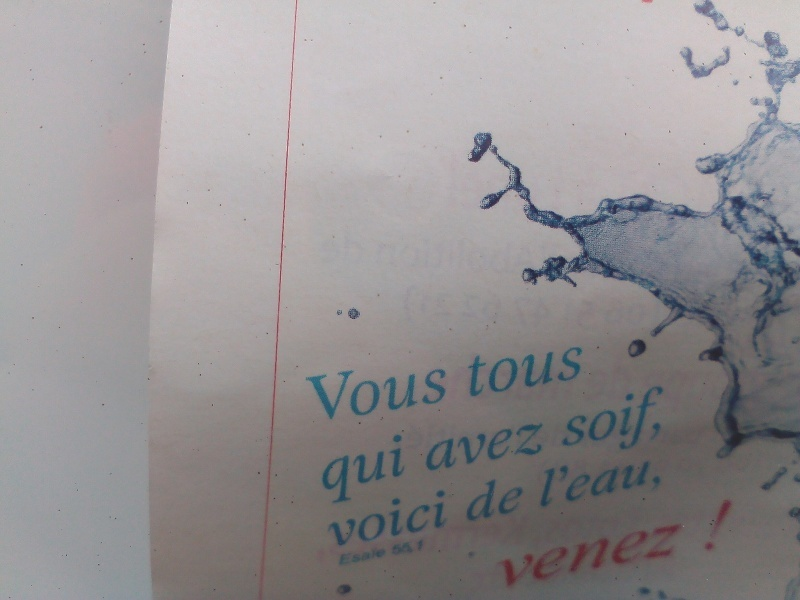text: (577, 384, 592, 465), (593, 384, 608, 465), (609, 384, 624, 465), (625, 384, 640, 465), (641, 384, 656, 465), (337, 431, 352, 510), (353, 431, 368, 510), (369, 431, 384, 510), (385, 431, 400, 510), (657, 384, 671, 465), (322, 431, 336, 510), (337, 480, 352, 551), (353, 480, 368, 551), (369, 480, 384, 551), (385, 480, 400, 551), (401, 480, 416, 551), (417, 480, 432, 551), (433, 480, 448, 551), (497, 520, 512, 590), (513, 520, 528, 590), (529, 520, 544, 590), (545, 520, 560, 590), (561, 520, 576, 590), (577, 520, 592, 590), (593, 520, 608, 590), (609, 520, 624, 590), (625, 520, 640, 590), (641, 520, 656, 590), (657, 520, 672, 590), (673, 520, 688, 590), (322, 480, 336, 551), (305, 360, 320, 422), (321, 360, 336, 422), (337, 360, 352, 422), (353, 360, 368, 422), (369, 360, 384, 422), (385, 360, 400, 422), (401, 360, 416, 422), (417, 360, 432, 422), (433, 360, 448, 422), (321, 508, 336, 567), (337, 508, 352, 567), (353, 508, 368, 567), (369, 508, 384, 567), (385, 508, 400, 567), (401, 508, 416, 567), (417, 508, 432, 567), (433, 508, 448, 567), (449, 508, 464, 567), (465, 508, 480, 567), (481, 508, 496, 567), (497, 508, 512, 567), (513, 508, 528, 567), (529, 508, 544, 567), (545, 508, 560, 567), (561, 508, 576, 567), (577, 508, 592, 567), (593, 508, 608, 567), (609, 508, 624, 567), (625, 508, 640, 567), (721, 498, 736, 556), (433, 419, 448, 476), (449, 419, 464, 476), (465, 419, 480, 476), (481, 419, 496, 476), (497, 419, 512, 476), (513, 419, 528, 476), (529, 419, 544, 476), (545, 453, 560, 510), (561, 453, 576, 510), (577, 453, 592, 510), (593, 453, 608, 510), (609, 453, 624, 510), (625, 453, 640, 510), (641, 453, 656, 510), (481, 344, 496, 398), (497, 344, 512, 398), (513, 344, 528, 398), (529, 344, 544, 398), (545, 344, 560, 398), (561, 344, 576, 398), (481, 471, 496, 524), (497, 471, 512, 524), (321, 233, 336, 282), (337, 233, 352, 282), (353, 233, 368, 282), (369, 233, 384, 282), (385, 233, 400, 282), (401, 233, 416, 282), (417, 233, 432, 282), (433, 233, 448, 282), (449, 233, 464, 282), (465, 233, 480, 282), (481, 233, 496, 282), (497, 233, 512, 282), (513, 233, 528, 282), (401, 286, 416, 331), (417, 286, 432, 331), (433, 286, 448, 331), (449, 286, 464, 331), (465, 286, 480, 331), (481, 286, 496, 331), (497, 286, 512, 331), (513, 286, 528, 331), (529, 286, 544, 331), (545, 286, 560, 331), (561, 286, 576, 331), (577, 286, 592, 331), (593, 286, 608, 331), (609, 286, 624, 331), (625, 286, 640, 331), (641, 286, 656, 331), (309, 508, 320, 567), (468, 344, 480, 398), (401, 431, 409, 510), (513, 471, 524, 524), (471, 471, 480, 524), (641, 508, 649, 567), (657, 453, 665, 510), (529, 233, 538, 282), (353, 539, 368, 568), (369, 539, 384, 568), (385, 539, 400, 568), (401, 539, 416, 568), (657, 286, 666, 331), (577, 344, 584, 398), (340, 539, 352, 568), (417, 539, 426, 568), (716, 498, 720, 556), (449, 480, 452, 551), (737, 498, 740, 556), (429, 419, 432, 476), (318, 233, 320, 282), (575, 384, 576, 465), (303, 360, 304, 422), (545, 419, 546, 476)
